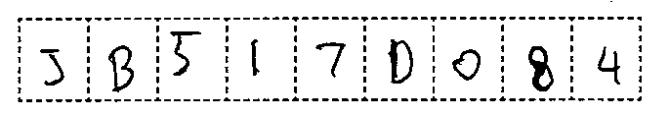0: (446, 45, 487, 85)
1: (236, 32, 272, 82)
4: (590, 42, 628, 87)
5: (162, 26, 205, 79)
7: (308, 37, 352, 85)
8: (522, 42, 560, 96)
B: (100, 42, 142, 97)
D: (381, 33, 425, 90)
J: (34, 43, 71, 90)
